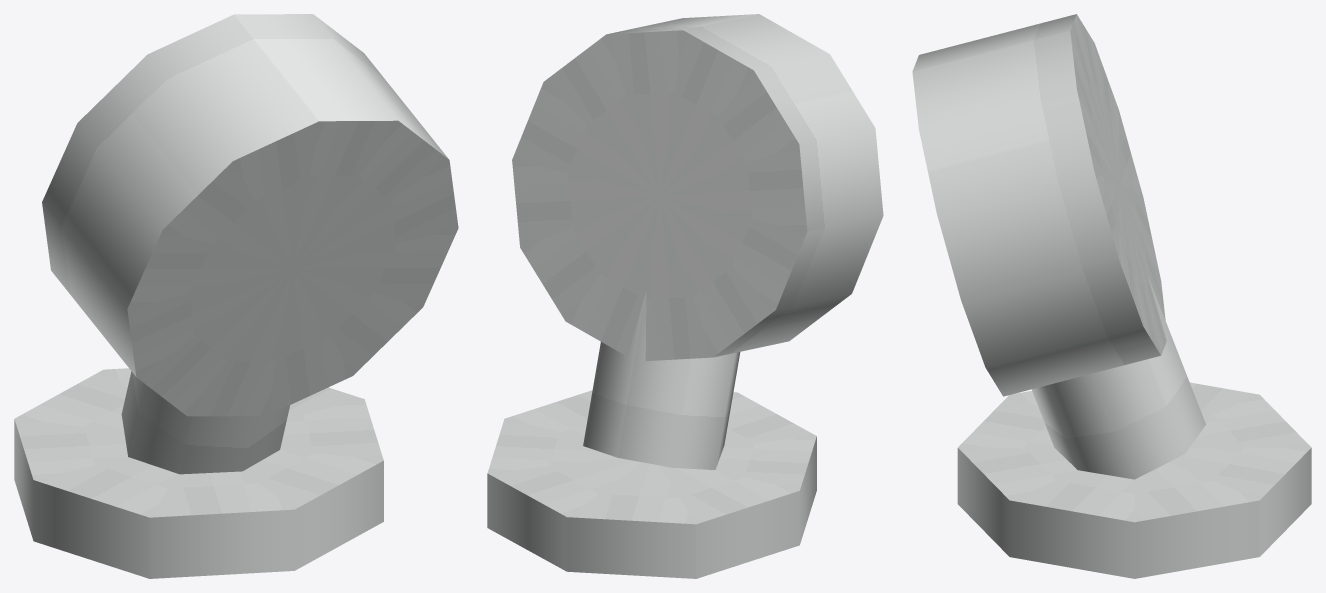
Rendered from trusssignalarm_stub_69.obj.
The picture shows the model from 3 angles, left to right: view 1: azimuth 30°, elevation 25°; view 2: azimuth 150°, elevation 25°; view 3: azimuth 270°, elevation 25°; orthographic projection. The views are drawn at different scales.
Visible parts, largest first — view 1: trusssignalarm_stub_69; view 2: trusssignalarm_stub_69; view 3: trusssignalarm_stub_69.
Boxes of the visible parts, bbox=[...] form: trusssignalarm_stub_69: bbox=[14, 14, 458, 578]; trusssignalarm_stub_69: bbox=[487, 14, 883, 578]; trusssignalarm_stub_69: bbox=[912, 14, 1311, 578].
Bounding box in the file's own units: 0.35 × 0.5168 × 0.3949.
